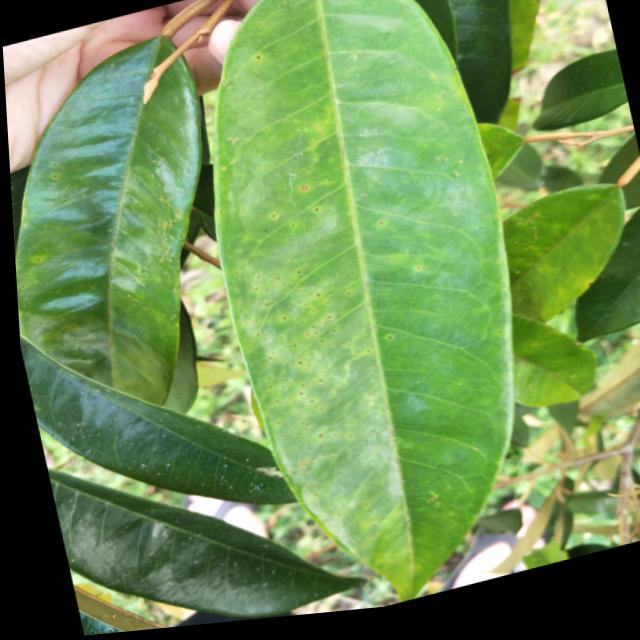Leaf Spot: (214, 191, 373, 468)
